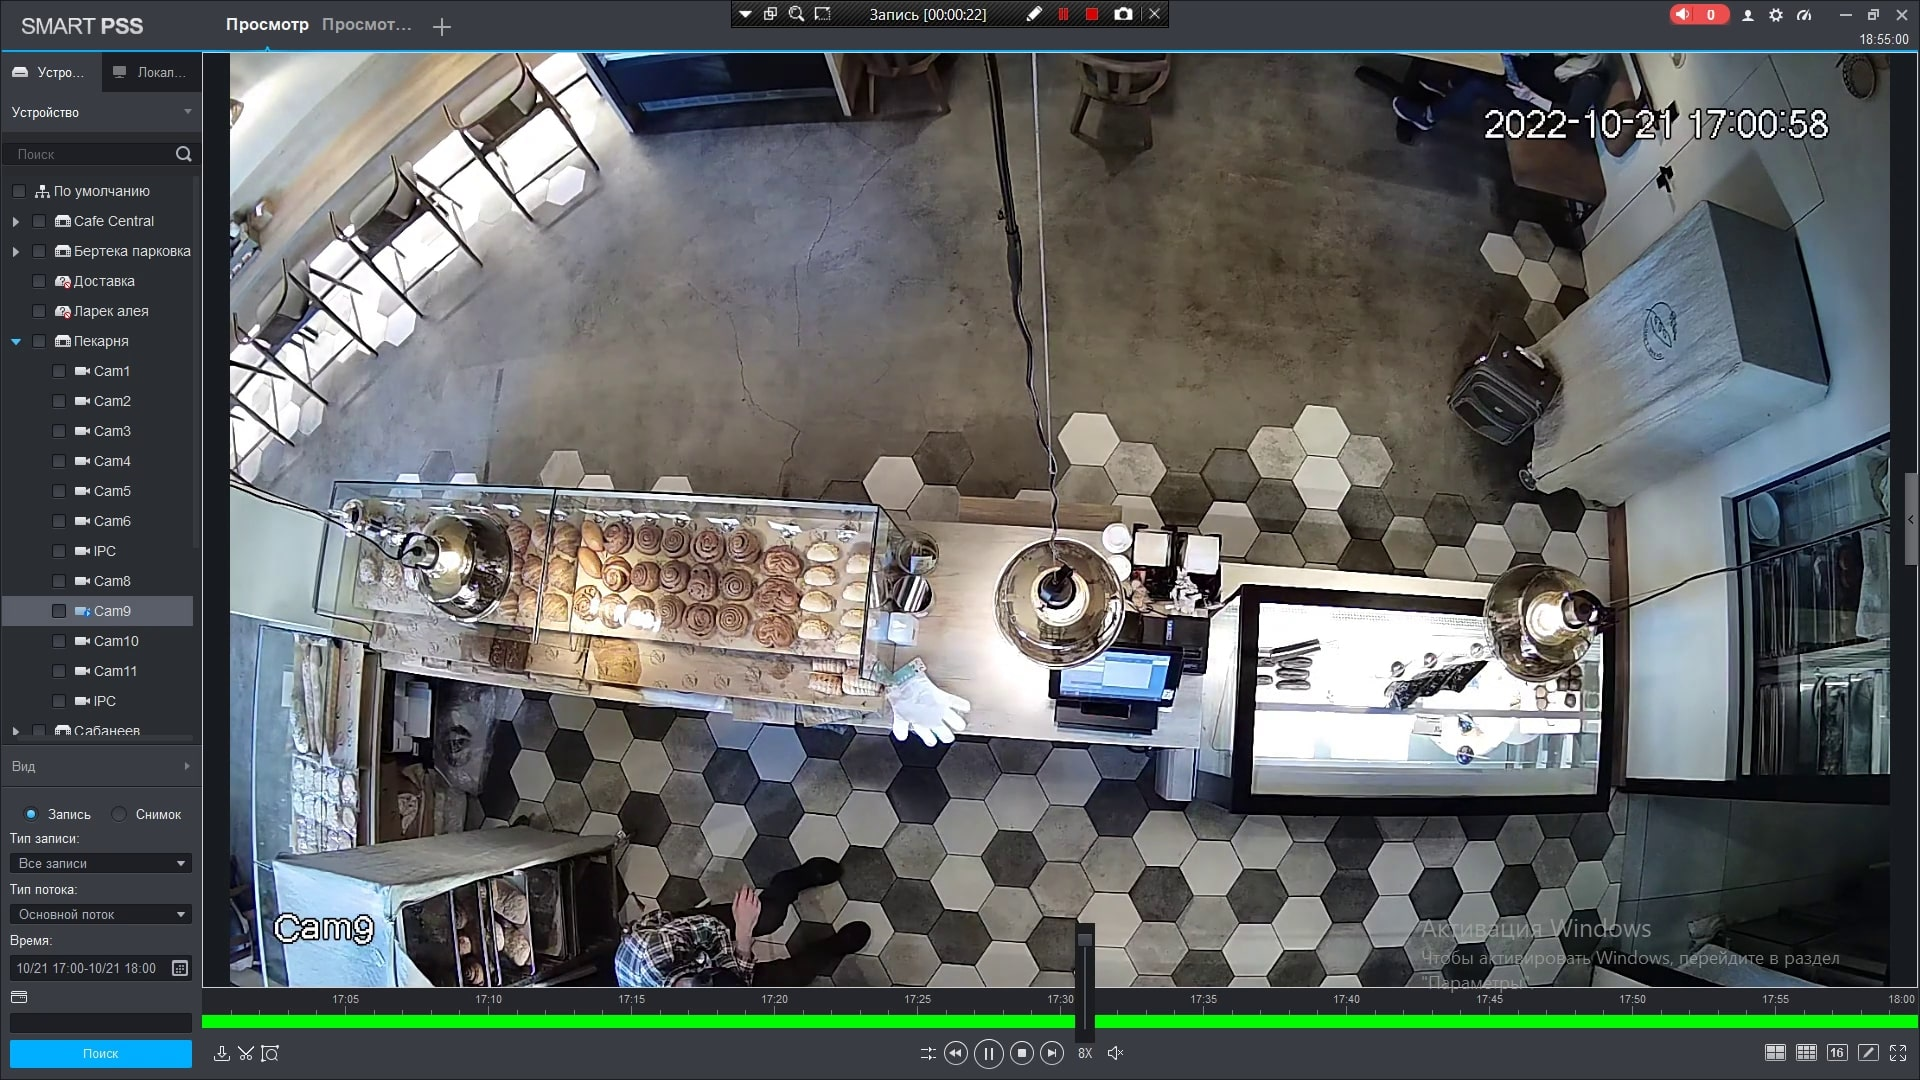barcounter: (309, 483, 1604, 799)
